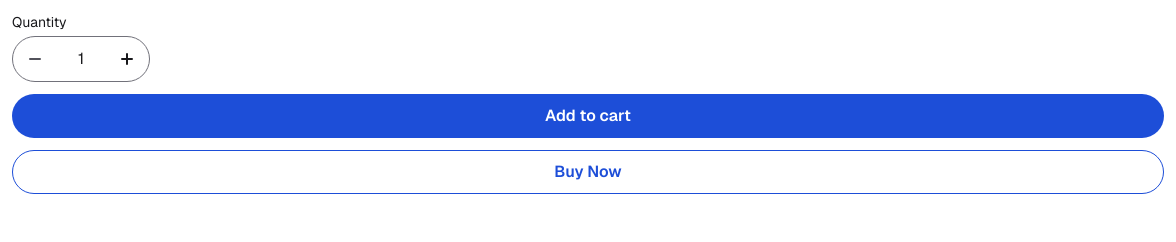
Test: AddToCartForm v2: stock changed mid-session › STOCK_CHANGED from Buy Now with available 0 shows the count and keeps the form
Click the button "Buy Now". click: (588, 172)
box: [12,150,1164,194]
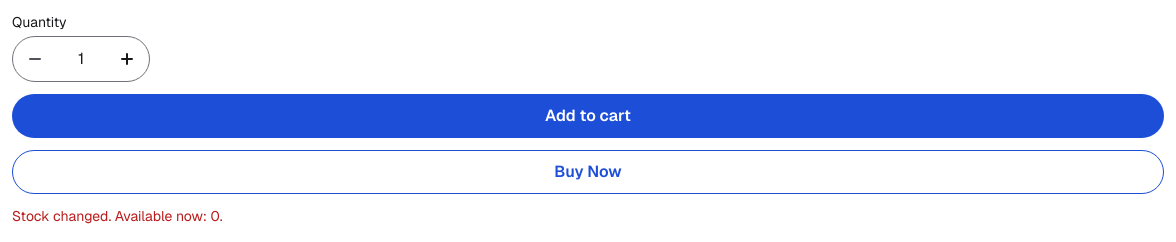
Expected: the button "Add to cart" is shown, [12,94,1164,138]
Expected: the message reads "Stock changed. Available now: 0.", [12,207,222,225]
